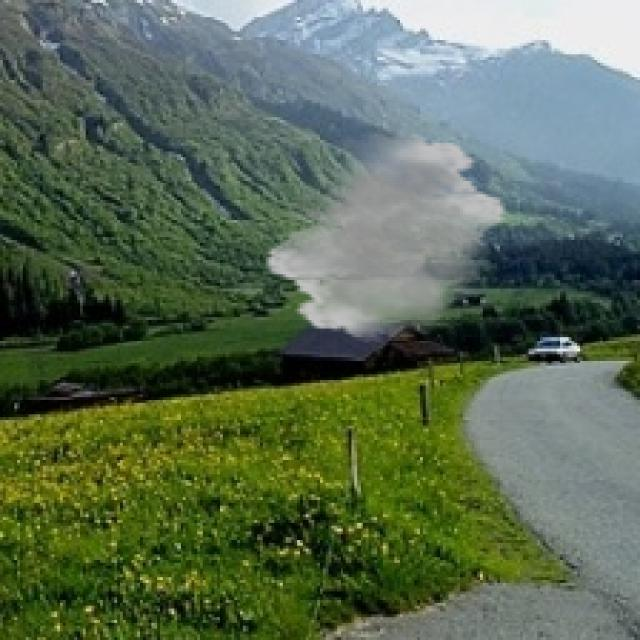smoke: (263, 128, 508, 343)
